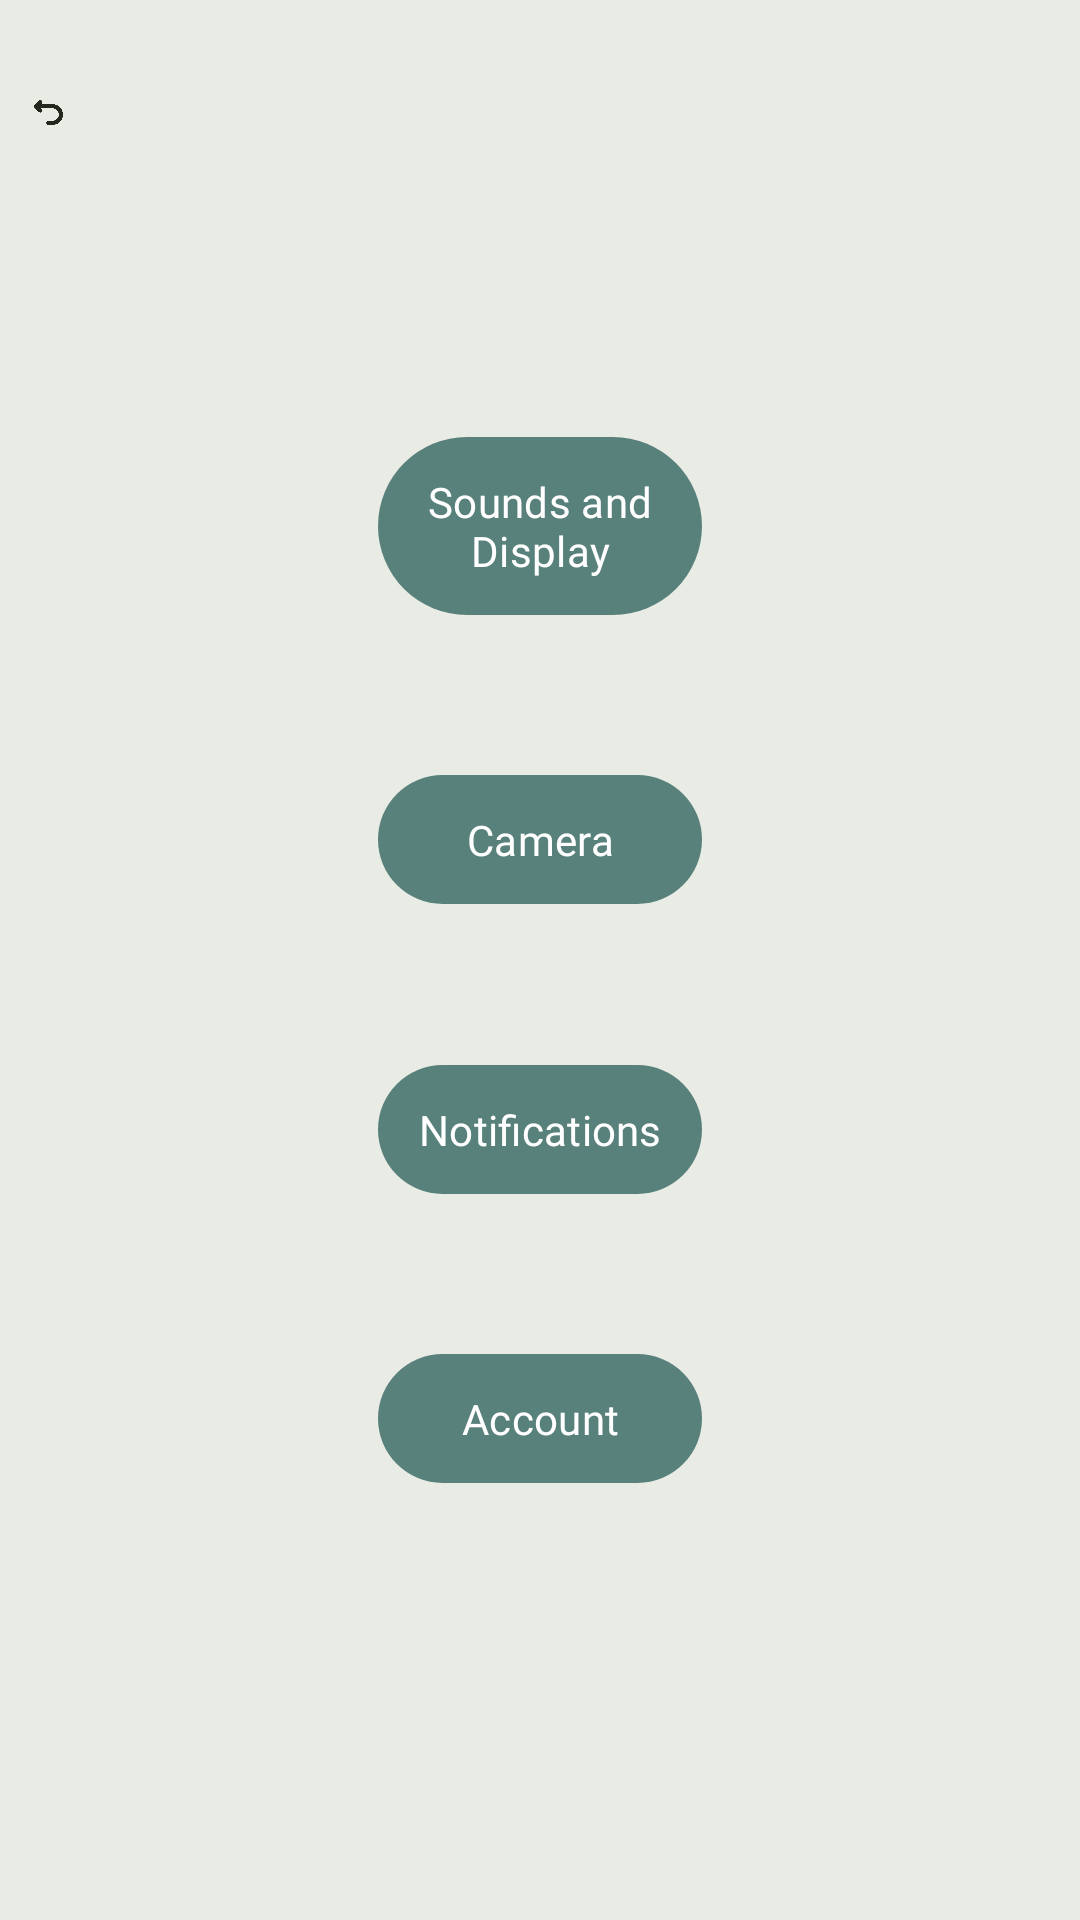

Where icons sit on this 1080 x 1920 app screen, as region(x1, y1, x2, y2):
back: region(34, 100, 63, 125)
